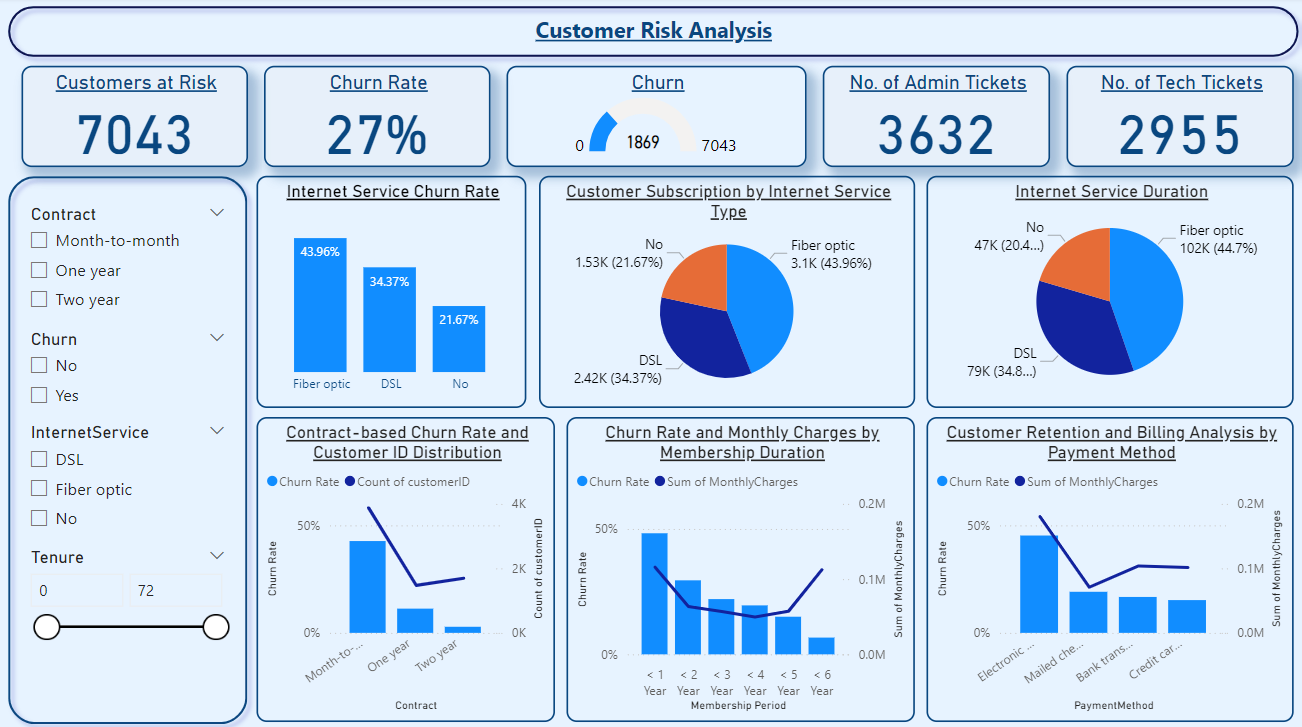

What the dashboard file says about the page in this screenshot:
{"tool":"powerbi","page":{"name":"Customer Risk Analysis","canvas":[1280,720],"ordinal":2},"visuals":[{"type":"shape","box":[0,0,1280.3,67.4],"z":0},{"type":"shape","box":[0,166.3,251.9,553.9],"z":0,"group":"g1"},{"type":"textbox","box":[126.2,12.3,1029.2,42.5],"z":1000},{"type":"card","title":"Customers at Risk","fields":{"Values":["CountNonNull(01 Churn-Dataset.customerID)"]},"box":[22,67.3,221.3,99],"z":2000},{"type":"slicer","fields":{"Values":["01 Churn-Dataset.Contract"]},"box":[18.6,196.3,215.1,122.5],"z":3000,"group":"g1"},{"type":"card","title":"No. of Tech Tickets","fields":{"Values":["Sum(01 Churn-Dataset.numTechTickets)"]},"box":[1044.3,67.3,222.6,99],"z":3000},{"type":"card","title":"No. of Admin Tickets","fields":{"Values":["Sum(01 Churn-Dataset.numAdminTickets)"]},"box":[805.8,67.3,222.6,99],"z":4000},{"type":"slicer","fields":{"Values":["01 Churn-Dataset.Churn"]},"box":[18.6,318.8,215.1,91.5],"z":4000,"group":"g1"},{"type":"card","title":"Churn Rate","fields":{"Values":["01 Churn-Dataset.Churn Rate"]},"box":[259.2,67.3,221.3,99],"z":5000},{"type":"slicer","fields":{"Values":["01 Churn-Dataset.InternetService"]},"box":[18.6,410.3,215.1,122.5],"z":5000,"group":"g1"},{"type":"gauge","title":"Churn","fields":{"MaxValue":["CountNonNull(01 Churn-Dataset.customerID)"],"Y":["01 Churn-Dataset.Churn v"]},"box":[496.5,67.3,293.5,99],"z":6000},{"type":"slicer","fields":{"Values":["01 Churn-Dataset.tenure"]},"box":[18.6,532.8,215.1,163.8],"z":6000,"group":"g1"},{"type":"group","id":"g1","title":"Group 1","box":[0,166.3,251.9,553.9],"z":6001},{"type":"columnChart","title":"Internet Service Churn Rate","fields":{"Category":["01 Churn-Dataset.InternetService"],"Y":["CountNonNull(01 Churn-Dataset.Churn)"]},"box":[251.9,174.9,264.1,227.4],"z":6002},{"type":"pieChart","title":"Customer Subscription by Internet Service Type","fields":{"Category":["01 Churn-Dataset.InternetService"],"Y":["CountNonNull(01 Churn-Dataset.customerID)"]},"box":[527.7,174.9,368.1,227.4],"z":6003},{"type":"pieChart","title":"Internet Service Duration","fields":{"Category":["01 Churn-Dataset.InternetService"],"Y":["Sum(01 Churn-Dataset.tenure)"]},"box":[907.3,174.9,359.5,227.4],"z":6004},{"type":"lineClusteredColumnComboChart","title":"Contract-based Churn Rate and Customer ID Distribution","fields":{"Y":["01 Churn-Dataset.Churn Rate"],"Y2":["CountNonNull(01 Churn-Dataset.customerID)"],"Category":["01 Churn-Dataset.Contract"]},"box":[251.9,410.9,292.3,298.4],"z":6005},{"type":"lineClusteredColumnComboChart","title":"Churn Rate and Monthly Charges by Membership Duration","fields":{"Y":["01 Churn-Dataset.Churn Rate"],"Category":["01 Churn-Dataset.Membership Period"],"Y2":["Sum(01 Churn-Dataset.MonthlyCharges)"]},"box":[555.2,410.9,341.2,298.4],"z":6006},{"type":"lineClusteredColumnComboChart","title":"Customer Retention and Billing Analysis by Payment Method","fields":{"Y":["01 Churn-Dataset.Churn Rate"],"Y2":["Sum(01 Churn-Dataset.MonthlyCharges)"],"Category":["01 Churn-Dataset.PaymentMethod"]},"box":[907.3,410.9,359.5,298.4],"z":6007}]}

Visuals, with their boxes in screenshot pixels (x1, y1, x2, y2), scaled from the page's 1280x720 canvas onto the 1302x727 screenshot:
shape: bbox(0, 0, 1301, 68)
shape: bbox(0, 168, 256, 726)
textbox: bbox(128, 12, 1175, 55)
"Customers at Risk" card: bbox(22, 68, 247, 168)
slicer - 01 Churn-Dataset.Contract: bbox(19, 198, 238, 322)
"No. of Tech Tickets" card: bbox(1062, 68, 1289, 168)
"No. of Admin Tickets" card: bbox(820, 68, 1046, 168)
slicer - 01 Churn-Dataset.Churn: bbox(19, 322, 238, 414)
"Churn Rate" card: bbox(264, 68, 489, 168)
slicer - 01 Churn-Dataset.InternetService: bbox(19, 414, 238, 538)
"Churn" gauge: bbox(505, 68, 804, 168)
slicer - 01 Churn-Dataset.tenure: bbox(19, 538, 238, 703)
"Group 1" group: bbox(0, 168, 256, 726)
"Internet Service Churn Rate" columnChart: bbox(256, 177, 525, 406)
"Customer Subscription by Internet Service Type" pieChart: bbox(537, 177, 911, 406)
"Internet Service Duration" pieChart: bbox(923, 177, 1289, 406)
"Contract-based Churn Rate and Customer ID Distribution" lineClusteredColumnComboChart: bbox(256, 415, 554, 716)
"Churn Rate and Monthly Charges by Membership Duration" lineClusteredColumnComboChart: bbox(565, 415, 912, 716)
"Customer Retention and Billing Analysis by Payment Method" lineClusteredColumnComboChart: bbox(923, 415, 1289, 716)
